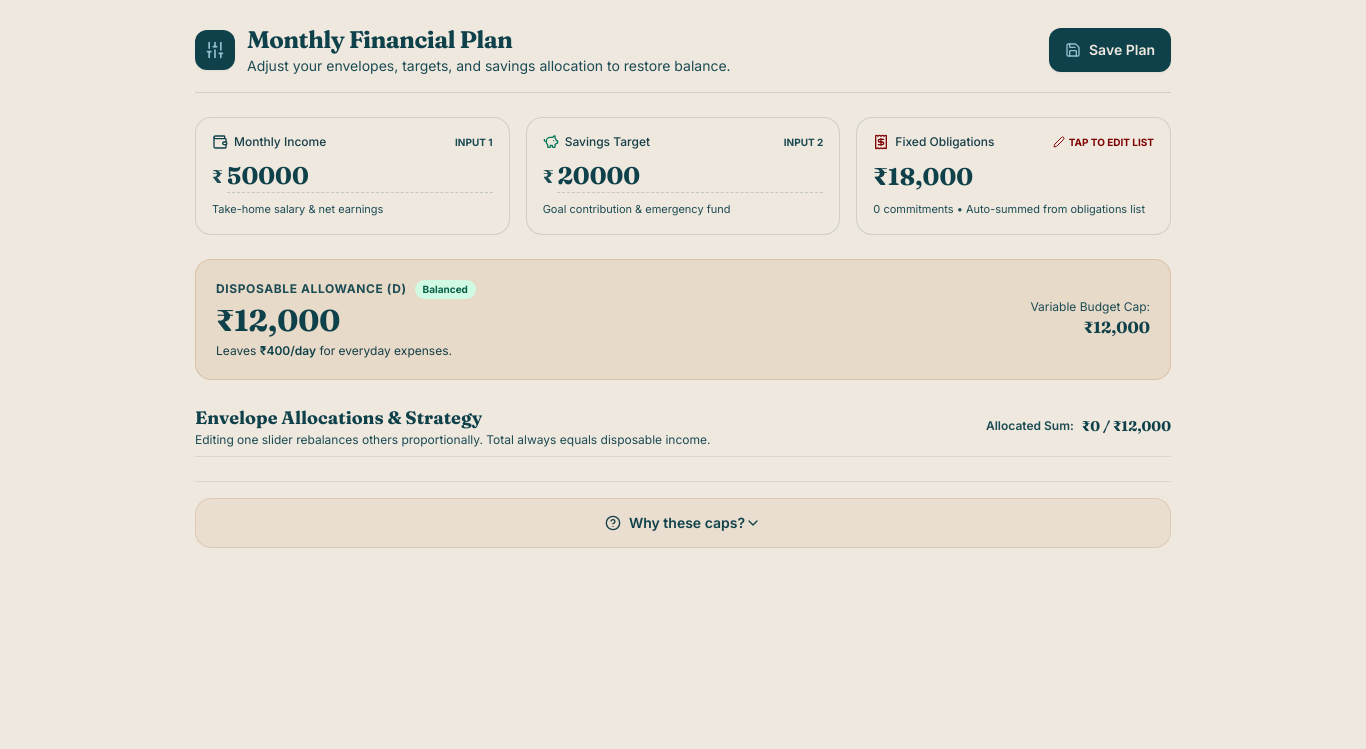
Scenario: PLAN SCREEN ACCEPTANCE TEST SUITE ("Earn 50k, save 20k") › What-if mode: temporary changes are reversible and not saved until confirmed
// Change income to 60000
Replace the text in the number field named "Monthly Income" with "60000" at (360, 176), box [227,160,493,193]
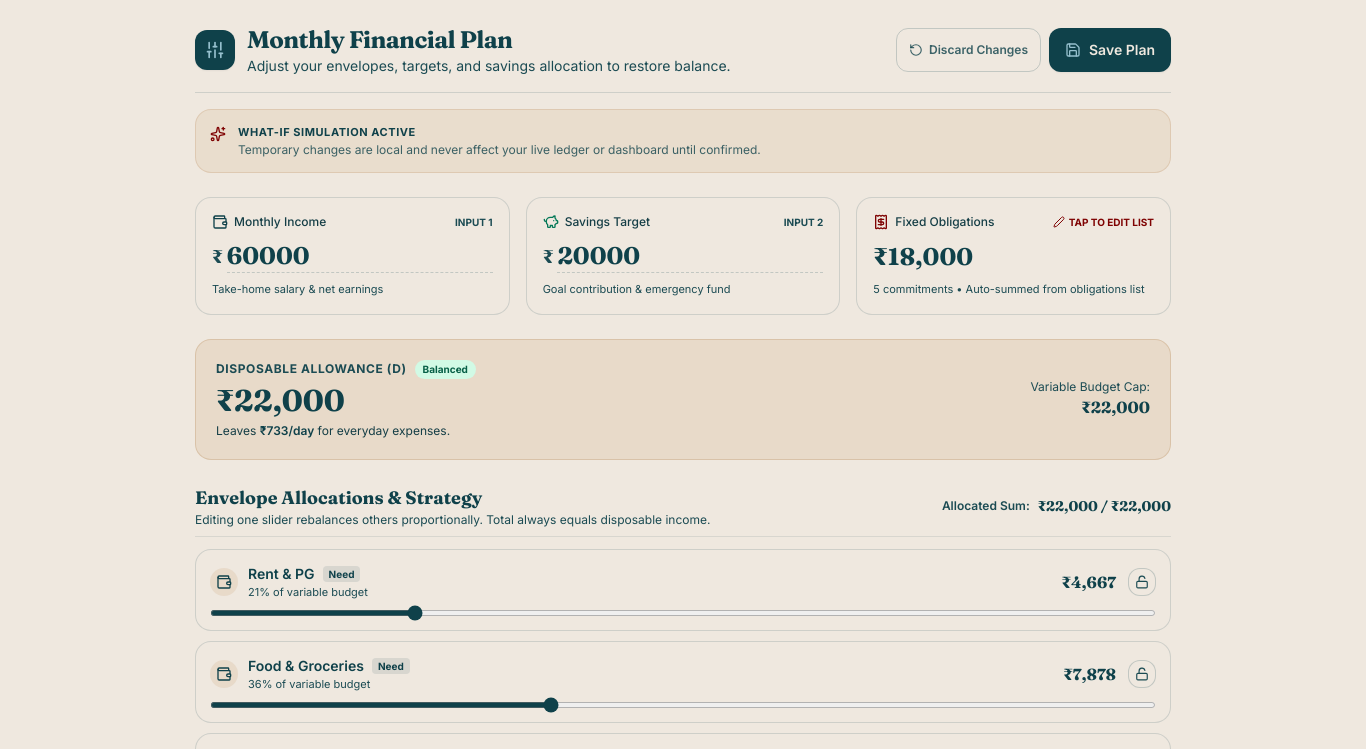
expect the element named "What-If Mode" is shown: met, box [195,109,1171,173]
expect the text "Discard Changes" is shown: met, box [929,42,1028,58]
// Click Discard
Click the button "Discard Changes" at (968, 50), box [896,28,1041,72]
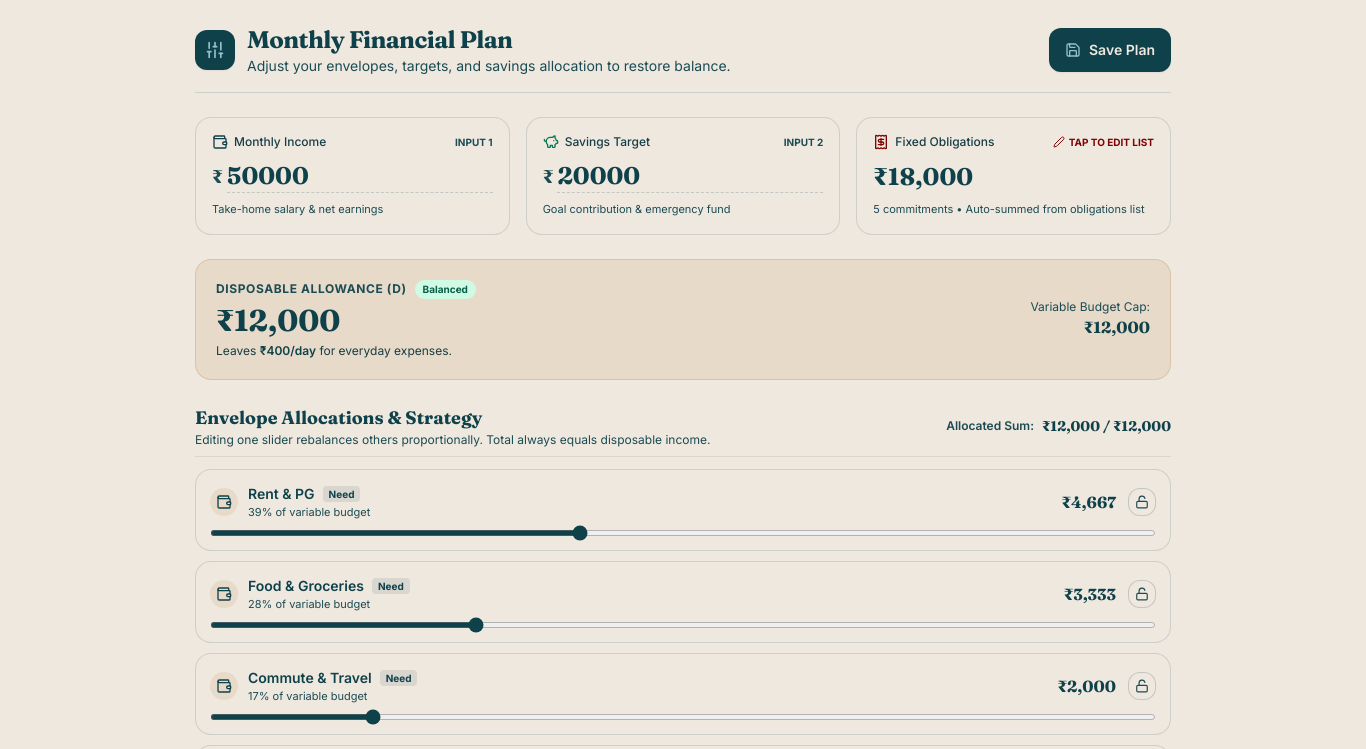
expect the number field named "Monthly Income" holds "50000": met, box [227,160,493,193]
